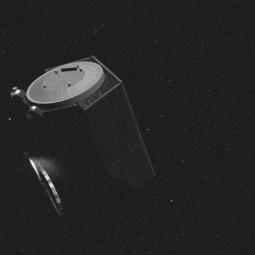cheops: (16, 52, 154, 220)
